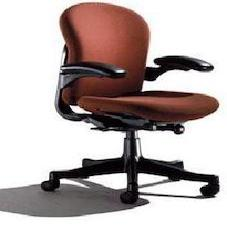chair: (41, 0, 224, 219)
